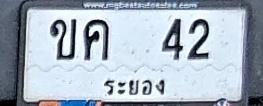2: (187, 18, 210, 60)
4: (162, 18, 182, 60)
A02: (50, 18, 76, 60)
A04: (84, 19, 109, 60)
RYG: (101, 75, 170, 98)
